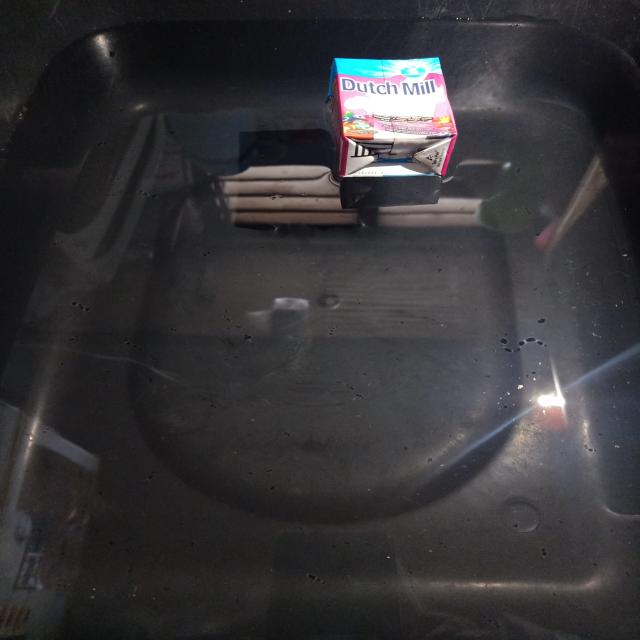Cardboard Box: (327, 58, 458, 178)
